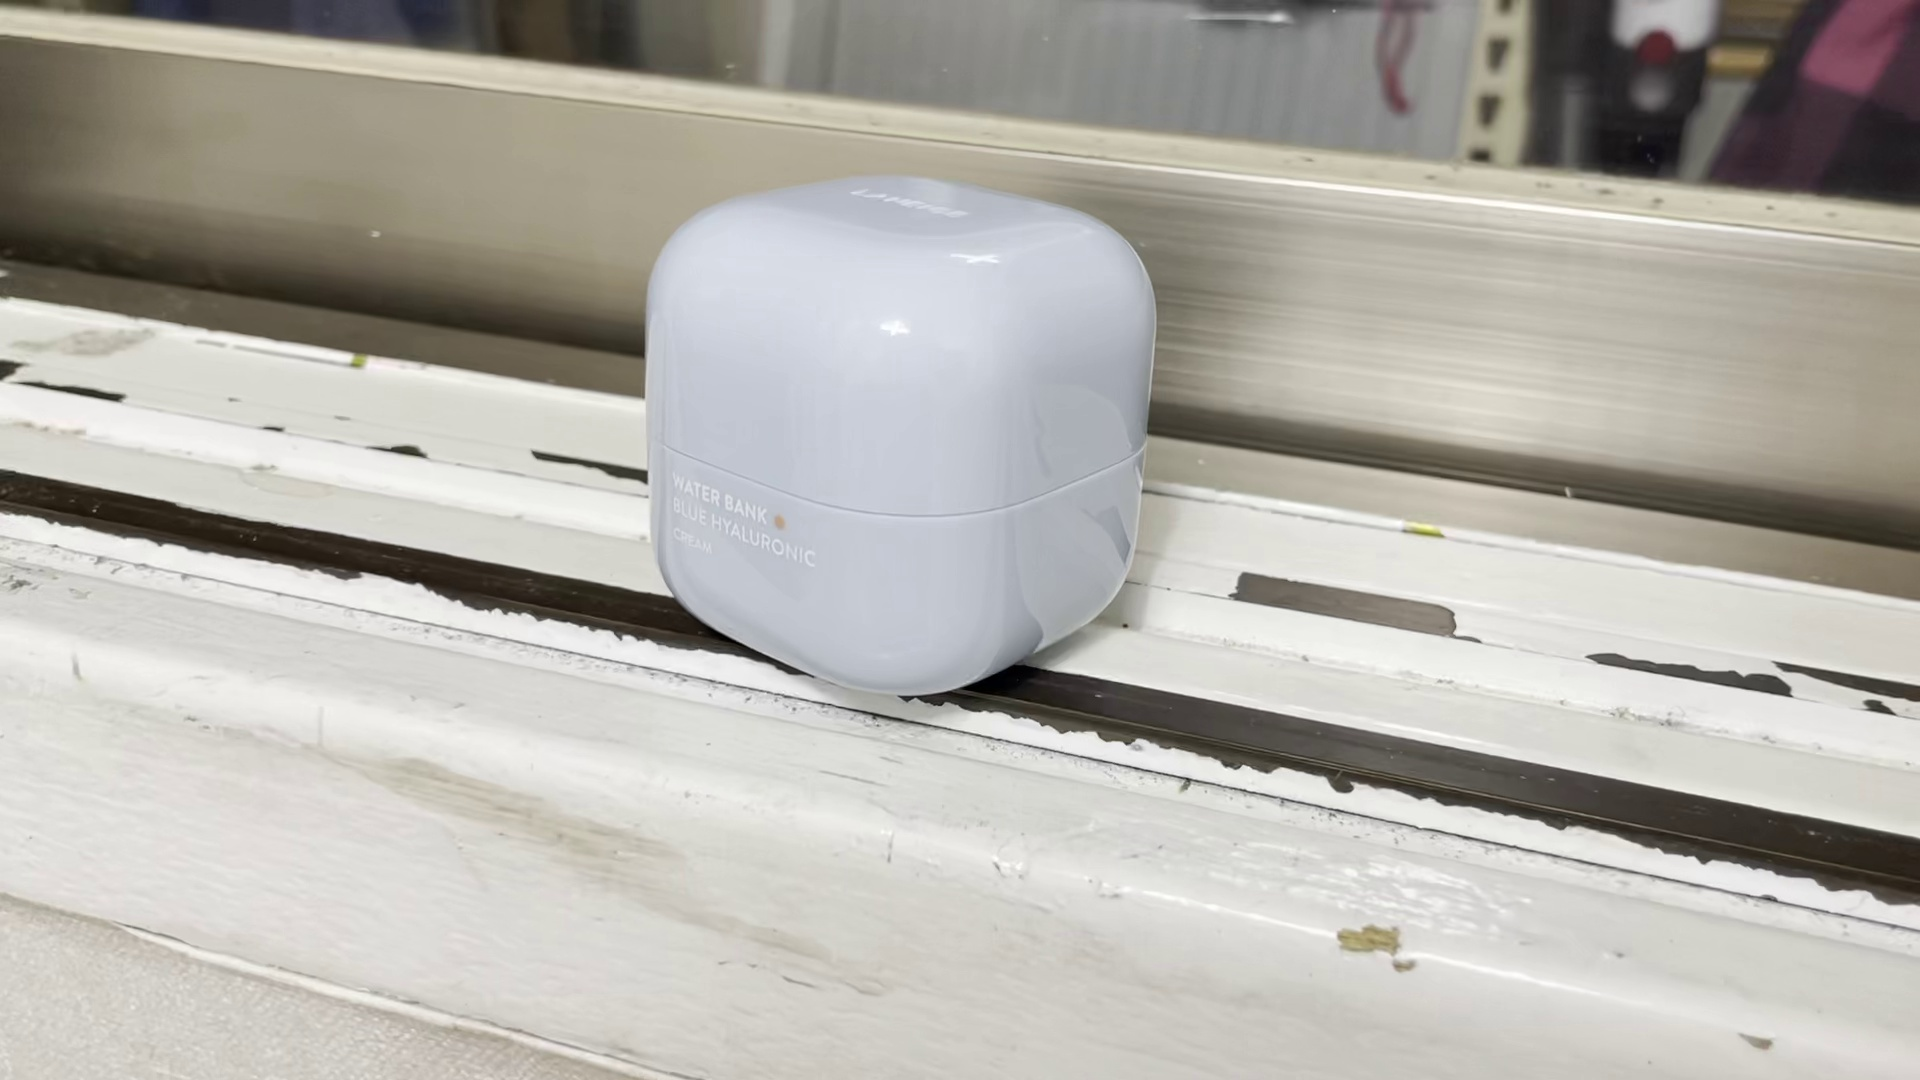cream: (644, 171, 1153, 696)
